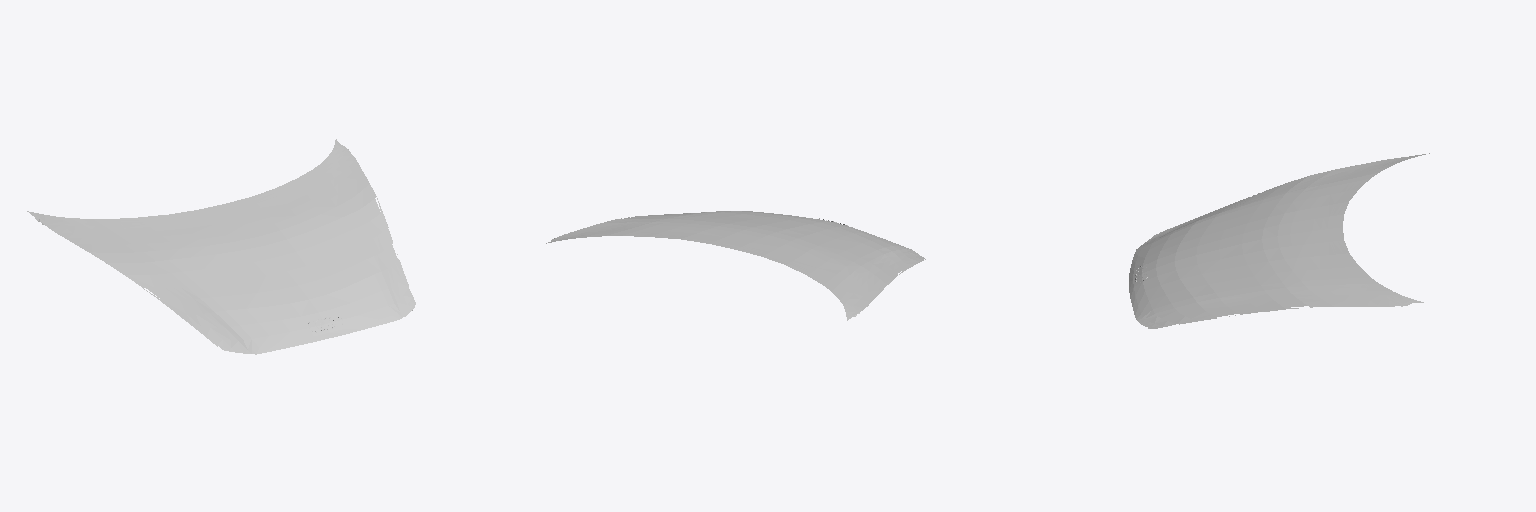
Rendered from Cofre.obj.
3 views of the same model, side by side, from view 1: azimuth 30°, elevation 25°; view 2: azimuth 150°, elevation 25°; view 3: azimuth 270°, elevation 25° (orthographic).
Visible parts, largest first — view 1: audi_r8.001; view 2: audi_r8.001; view 3: audi_r8.001.
Boxes of the visible parts, box(x1,y1,x2,y2) form: audi_r8.001: box(27, 139, 415, 354); audi_r8.001: box(546, 211, 925, 320); audi_r8.001: box(1129, 153, 1429, 328).
Size of the model in its own units: 4.37 by 0.7858 by 3.71.